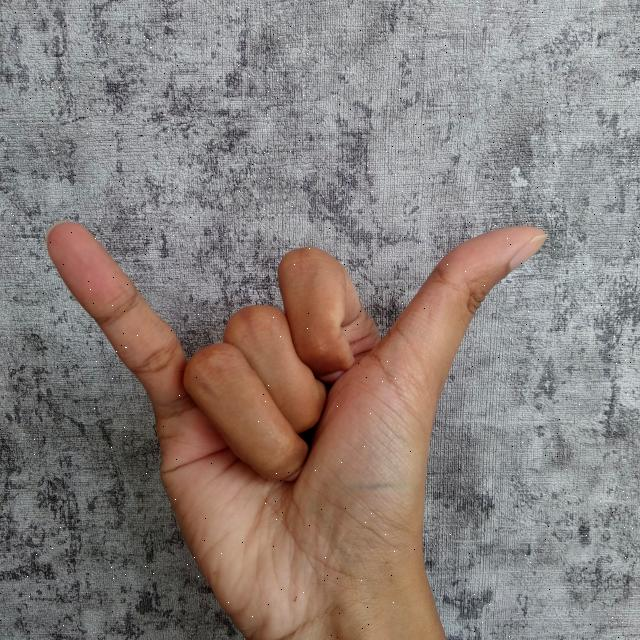Y: (41, 211, 556, 640)
